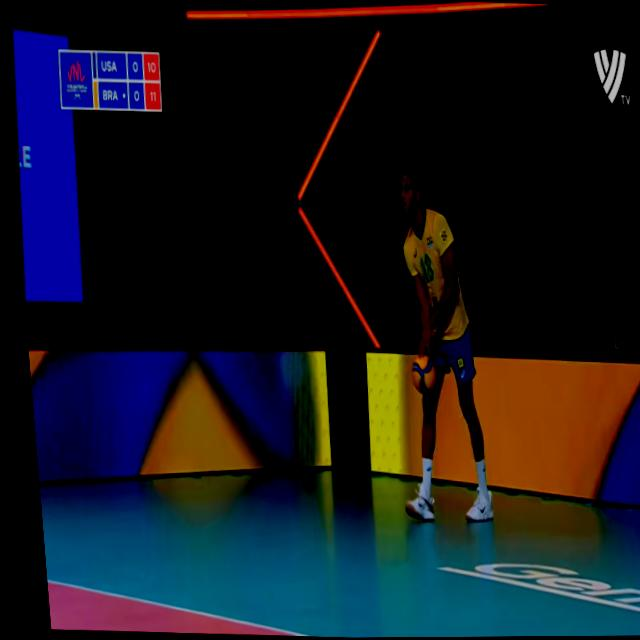player: (377, 169, 496, 525)
